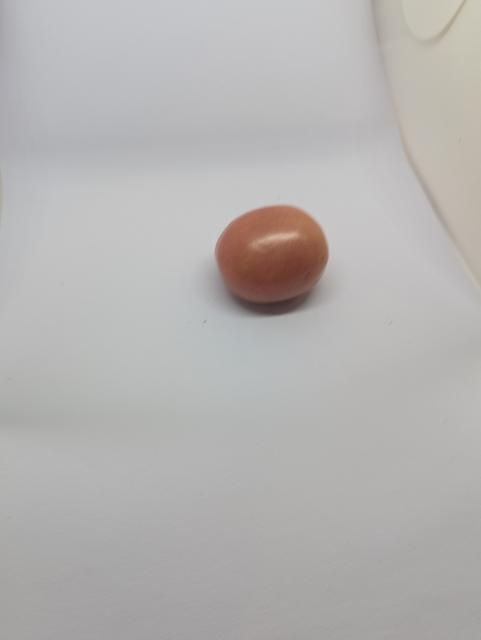red: (211, 194, 338, 315)
